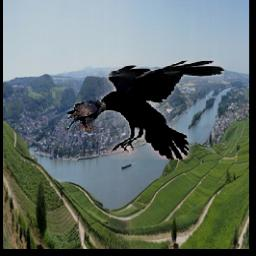Crow: (95, 59, 224, 160), (67, 100, 106, 131)
